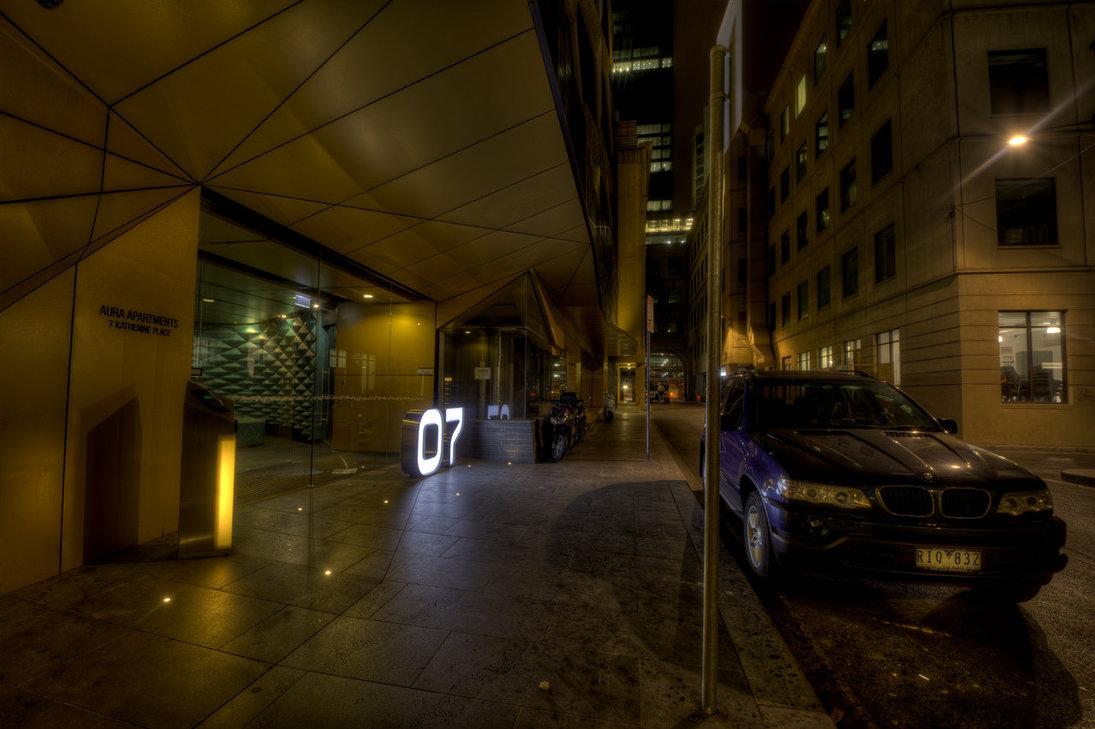car: (694, 361, 1079, 601)
